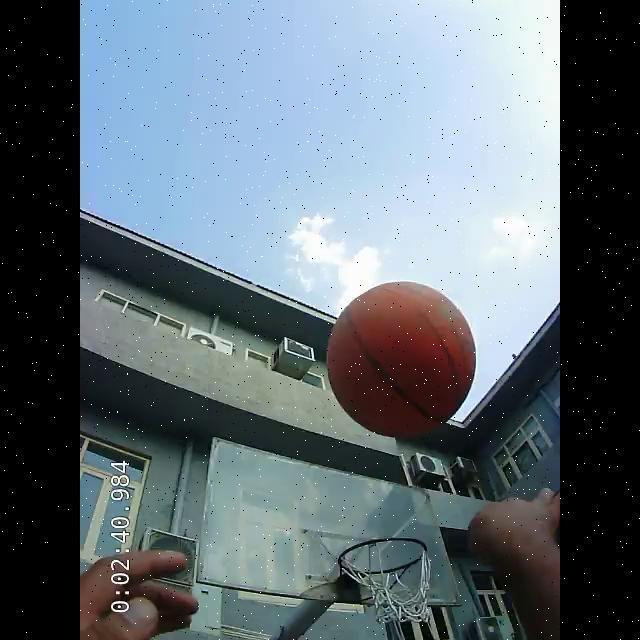ball: (325, 280, 476, 438)
hoop: (332, 532, 432, 576)
